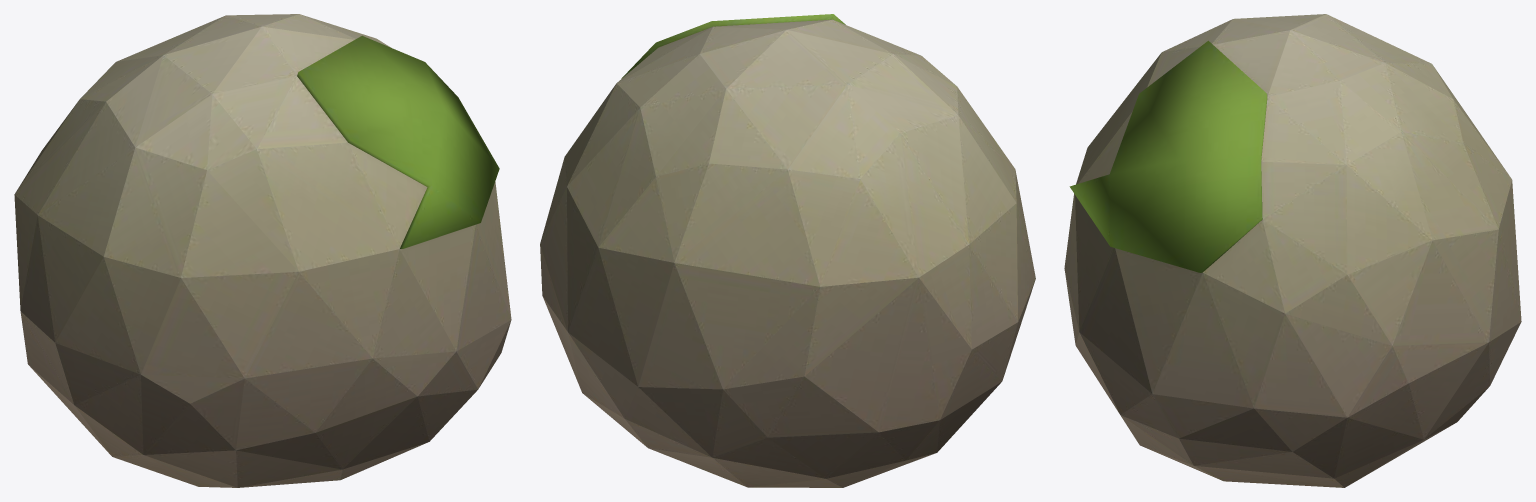
Rendered from rock_2_mid.glb.
The picture shows the model from 3 angles, left to right: view 1: azimuth 30°, elevation 25°; view 2: azimuth 150°, elevation 25°; view 3: azimuth 270°, elevation 25°; orthographic projection. The views are drawn at different scales.
Parts seen in each view (by area): view 1: rock_2; view 2: rock_2; view 3: rock_2.
Boxes of the visible parts, bbox=[...] form: rock_2: bbox=[14, 14, 511, 487]; rock_2: bbox=[540, 14, 1035, 487]; rock_2: bbox=[1064, 14, 1521, 487].
Bounding box in the file's own units: 0.6257 × 0.5919 × 0.581.
Materials: 1 (1 with a texture image).
